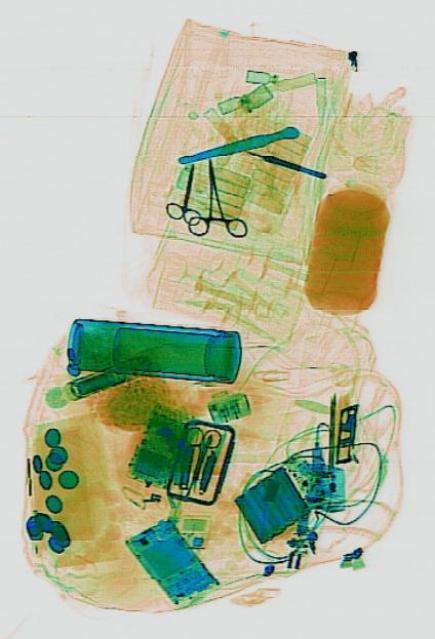Scissors: (180, 152, 245, 245), (162, 154, 208, 228), (174, 420, 221, 489)
